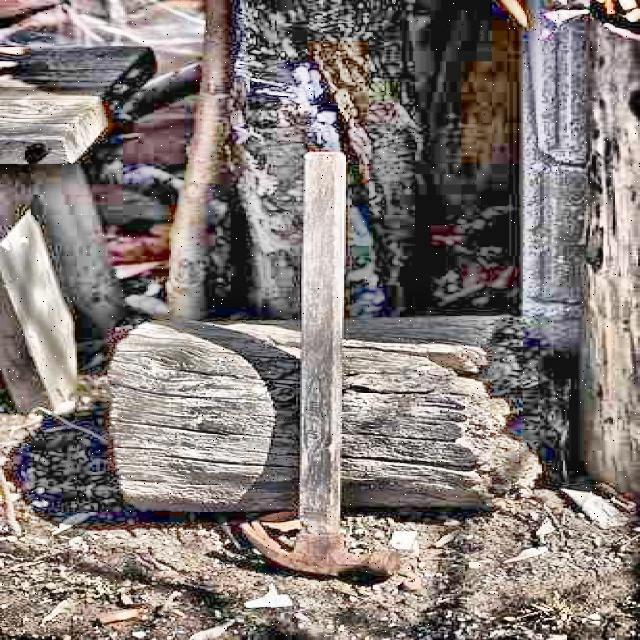hammer: (237, 150, 405, 582)
